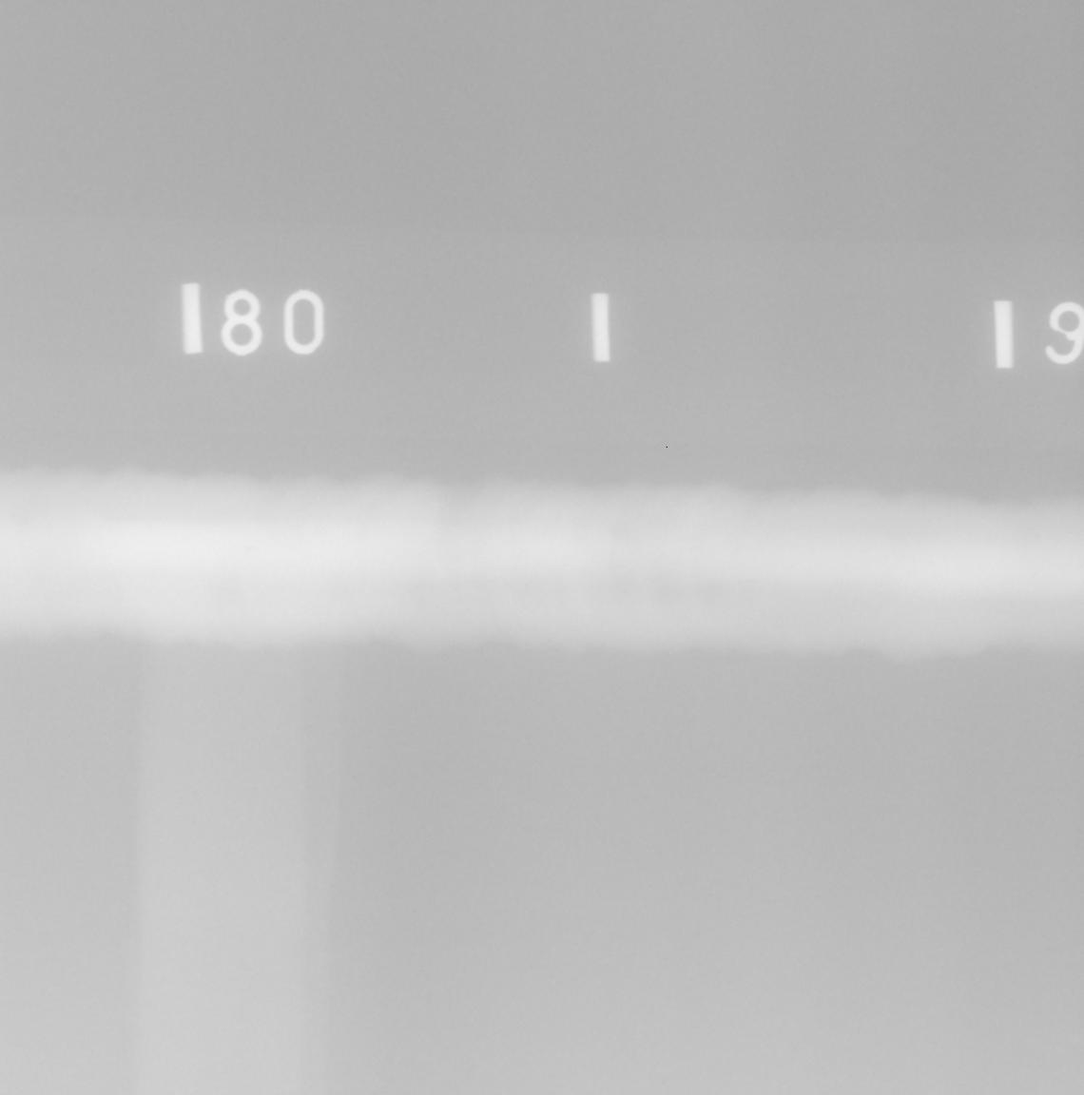Inclusion: (244, 547, 253, 550), (1033, 535, 1039, 536)
